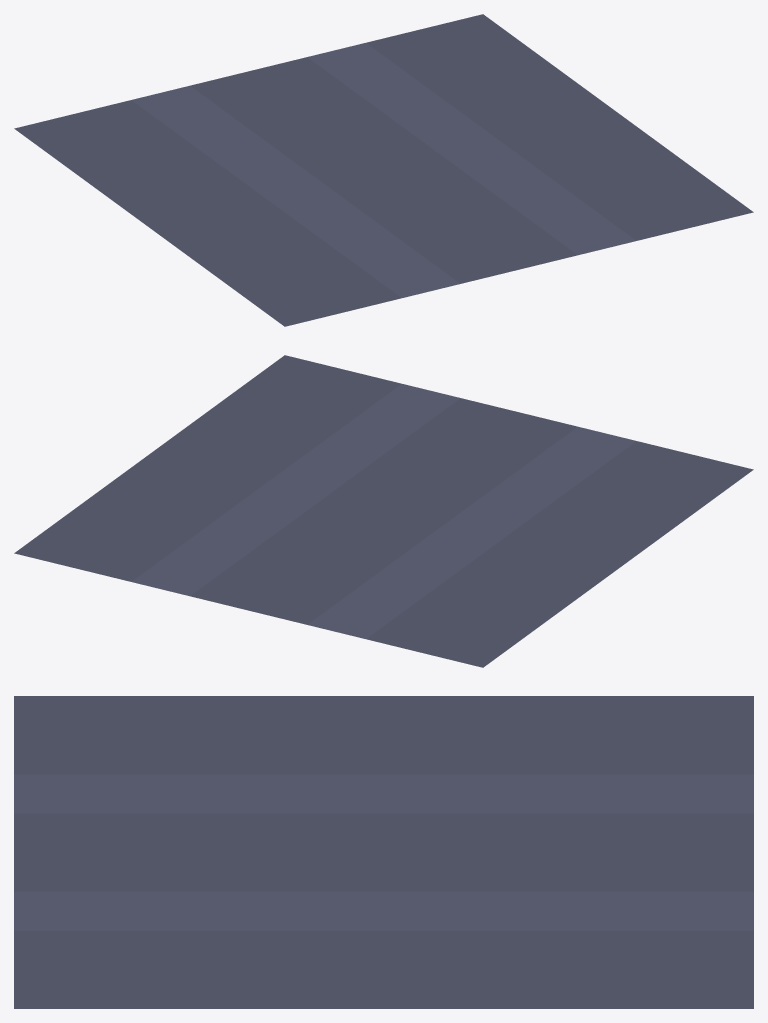
Rendered from terrain_roadStraight.glb.
3 views of the same model, one above another, from view 1: azimuth 30°, elevation 25°; view 2: azimuth 150°, elevation 25°; view 3: azimuth 270°, elevation 25° (orthographic). The views are drawn at different scales.
Parts seen in each view (by area): view 1: terrain_roadStraight; view 2: terrain_roadStraight; view 3: terrain_roadStraight.
Part boxes in pixels (x1,y1,x2,y2): terrain_roadStraight: (14,14,753,326); terrain_roadStraight: (14,355,753,667); terrain_roadStraight: (14,696,753,1008).
Size of the model in its own units: 1 by 0 by 1.
